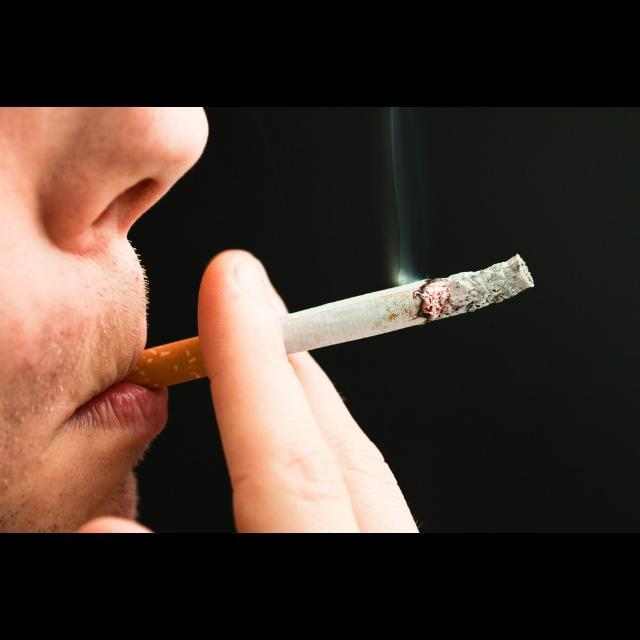rokok: (184, 256, 520, 398)
